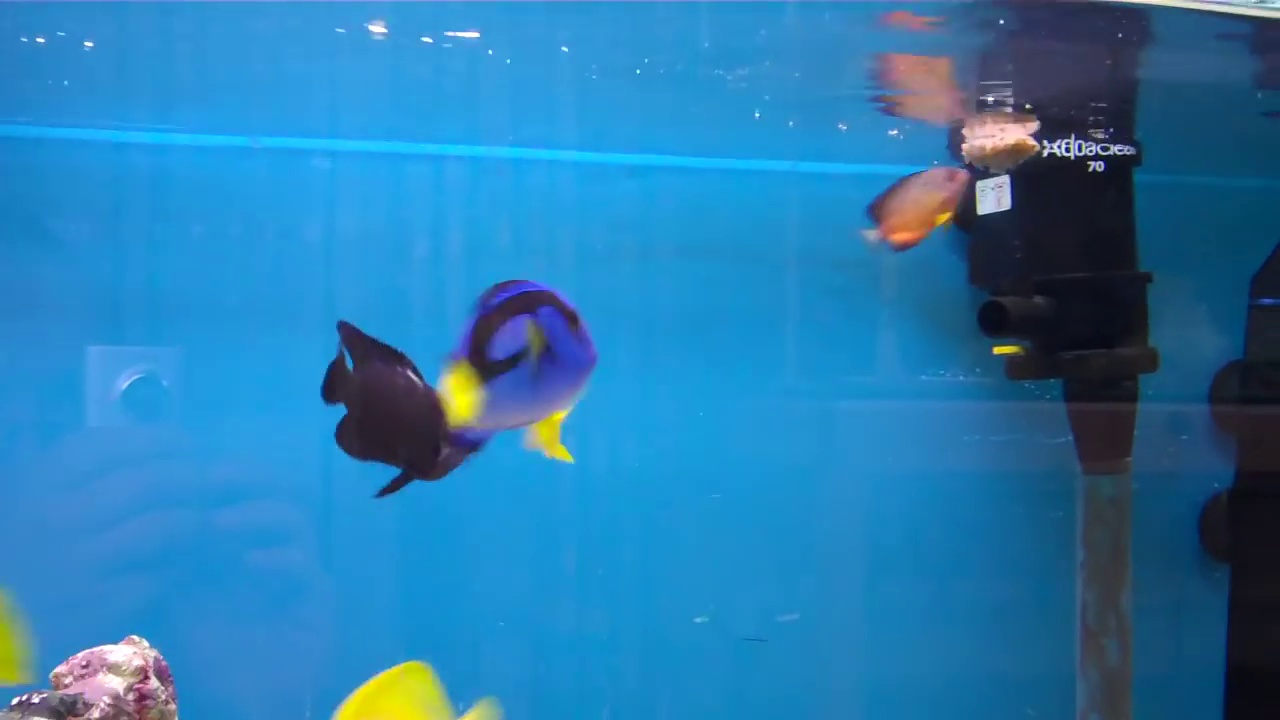blue tang surgeonfish: (425, 284, 600, 447)
